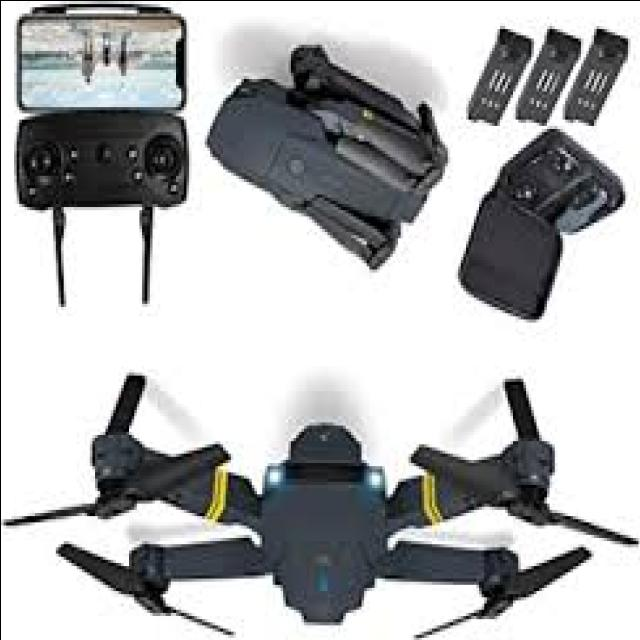drone: (6, 336, 640, 640)
